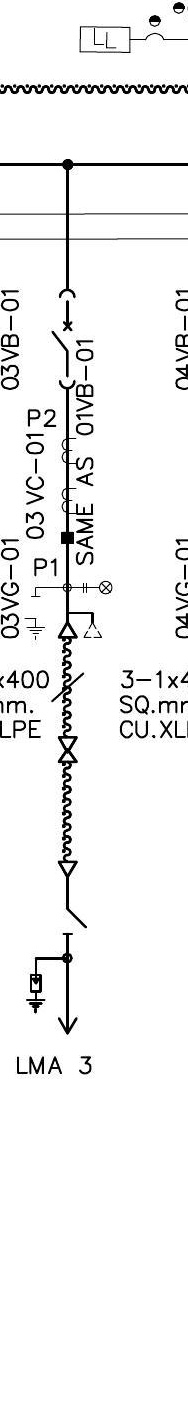22_breaker: (50, 288, 77, 390)
22_ds_la_out: (25, 908, 88, 1036)
22_gs: (23, 594, 46, 640)
22_ll: (82, 580, 113, 595)
LL: (78, 25, 132, 55)
terminator_single: (57, 859, 79, 878)
terminator_splicing_kits: (57, 735, 78, 763)
terminator_w_future: (57, 610, 104, 640)
